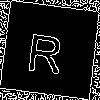R: (25, 24, 66, 74)
